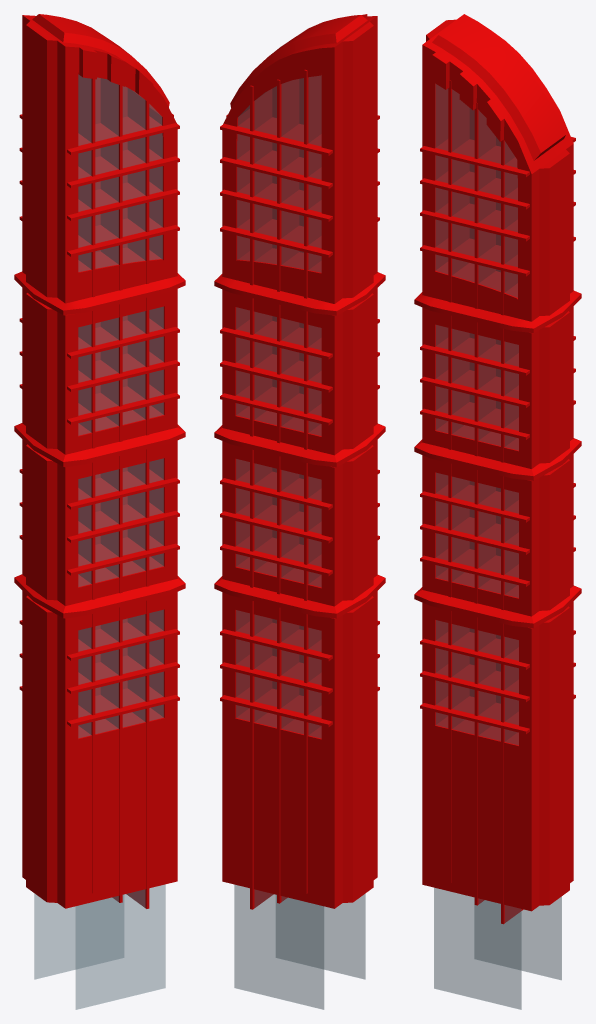
The model's file is Building2.fbx.
3 views of the same model, side by side, from view 1: azimuth 30°, elevation 25°; view 2: azimuth 150°, elevation 25°; view 3: azimuth 330°, elevation 25° (orthographic). The views are drawn at different scales.
Visible parts, largest first — view 1: build1:pCube20; view 2: build1:pCube20; view 3: build1:pCube20.
Boxes of the visible parts, left/top/right/bottom form: build1:pCube20: left=14, top=14, right=185, bottom=1009; build1:pCube20: left=214, top=14, right=385, bottom=1009; build1:pCube20: left=414, top=14, right=581, bottom=1009.
Size of the model in its own units: 225 by 1576 by 161.
